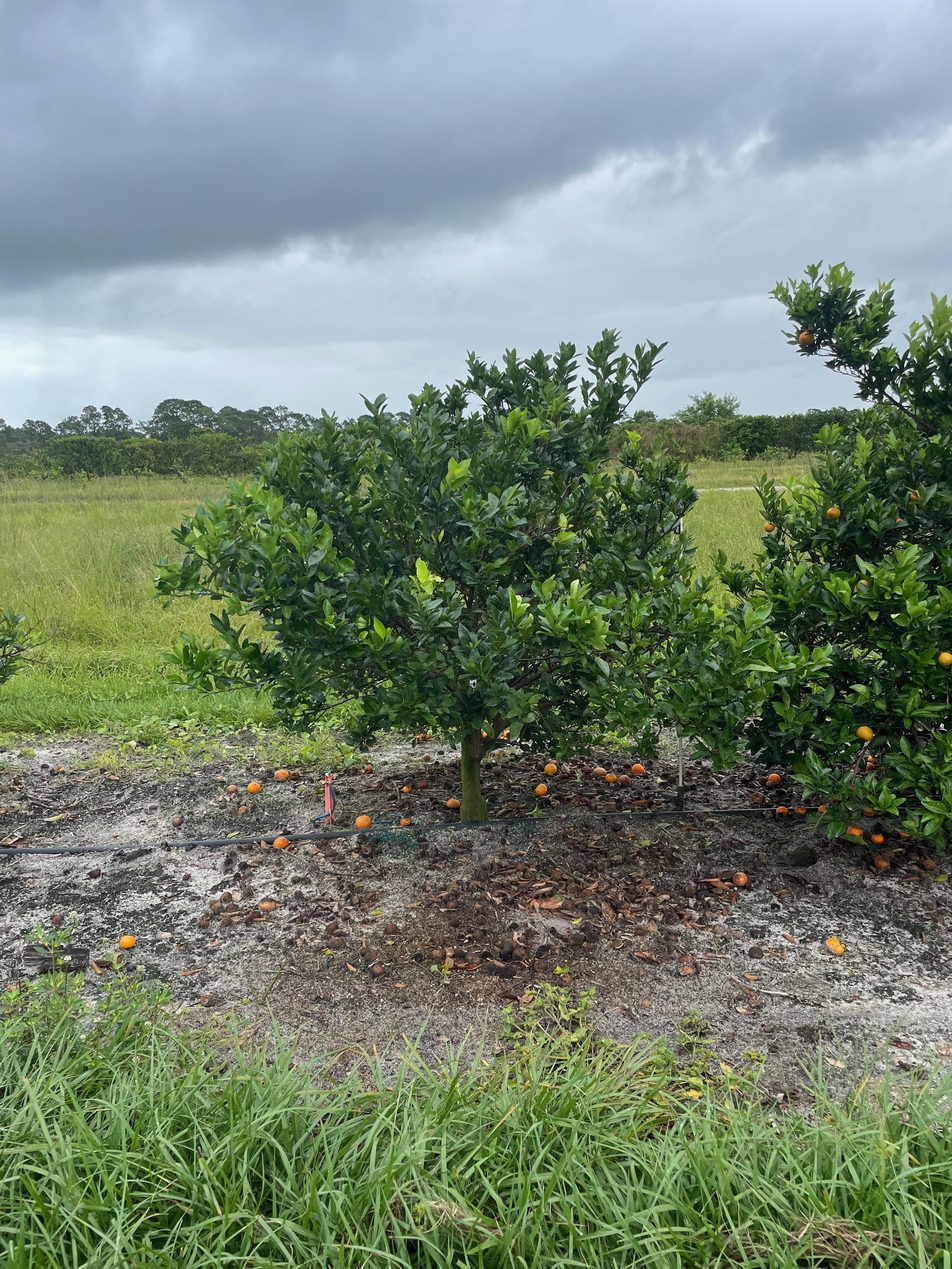fruit_on_ground: (796, 327, 818, 348), (854, 722, 876, 743), (935, 648, 952, 670), (825, 504, 843, 522), (906, 487, 924, 503), (854, 578, 871, 592), (763, 520, 777, 534)
fruit_on_tree: (826, 935, 847, 956), (843, 824, 866, 841), (872, 854, 892, 871), (730, 869, 749, 886), (118, 933, 136, 950), (353, 814, 372, 830), (749, 791, 768, 806), (765, 771, 782, 787), (257, 896, 275, 911), (542, 759, 558, 775), (629, 760, 646, 775), (272, 835, 289, 849), (534, 782, 549, 797), (870, 831, 886, 845), (273, 767, 289, 781), (618, 772, 633, 786), (246, 780, 261, 794), (445, 796, 461, 809), (862, 806, 877, 819), (862, 759, 877, 772), (591, 764, 606, 777), (288, 768, 302, 781), (170, 814, 184, 827), (774, 804, 789, 816), (499, 726, 512, 739), (416, 777, 430, 789), (399, 815, 413, 827), (604, 771, 618, 783), (793, 804, 807, 815), (214, 772, 227, 783), (236, 804, 249, 815), (225, 783, 238, 794), (401, 783, 413, 794), (477, 728, 488, 739), (420, 752, 432, 762), (363, 762, 375, 772), (413, 733, 424, 743)
